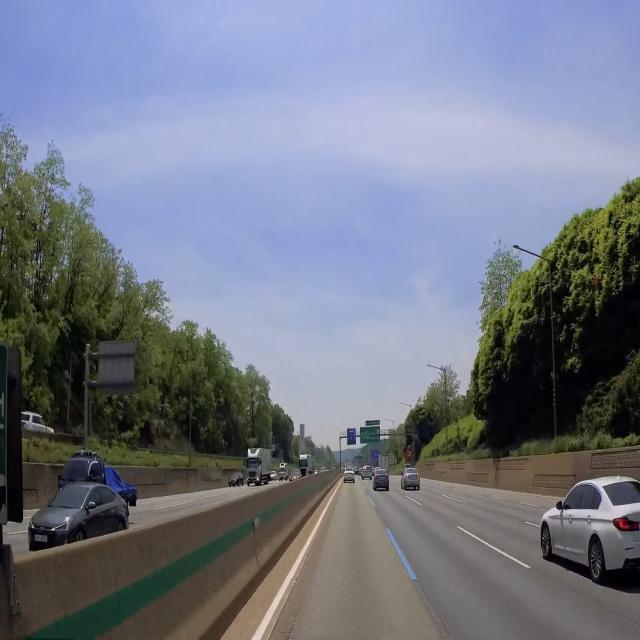car: (31, 532, 50, 548), (407, 475, 418, 481), (378, 475, 387, 482), (346, 475, 352, 482)
